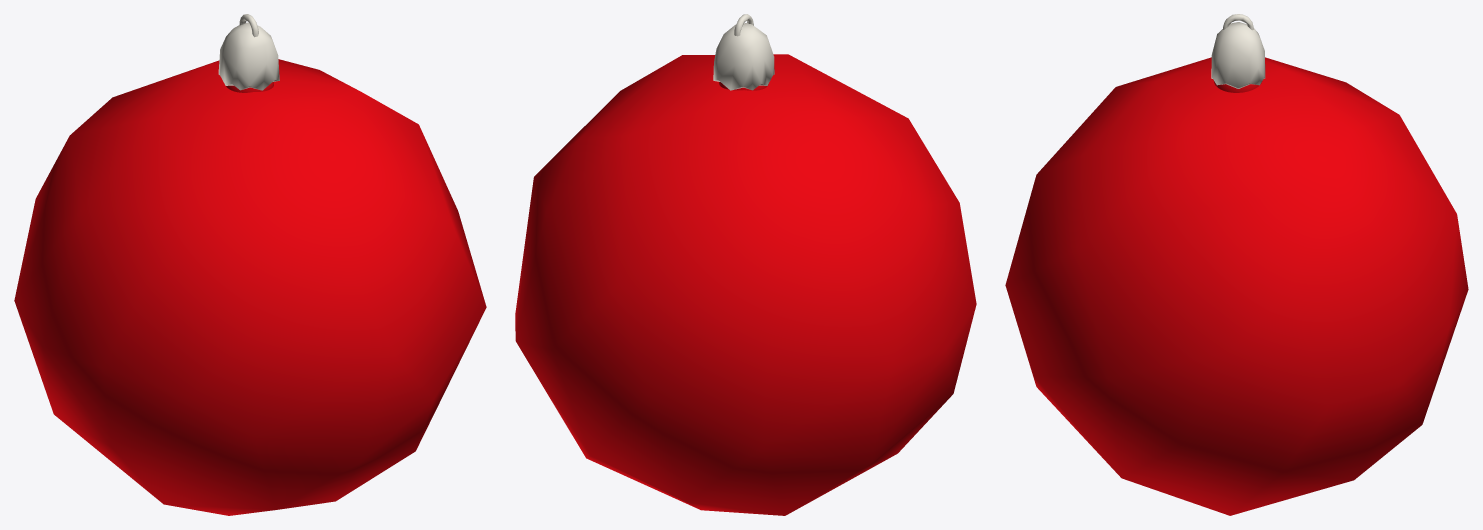
File: Christmas_ball.fbx
3 renders of one model, left to right at view 1: azimuth 30°, elevation 25°; view 2: azimuth 150°, elevation 25°; view 3: azimuth 270°, elevation 25°, orthographic.
Visible parts, largest first — view 1: Ball, adapter; view 2: Ball, adapter; view 3: Ball, adapter.
Boxes of the visible parts, box(x1,y1,x2,y2) form: Ball: box(14, 59, 486, 515); adapter: box(218, 22, 279, 90); Ball: box(515, 54, 976, 515); adapter: box(713, 23, 774, 90); Ball: box(1005, 57, 1468, 515); adapter: box(1211, 22, 1265, 88).
Bounding box in the file's own units: 5.18 × 5.74 × 5.15.
